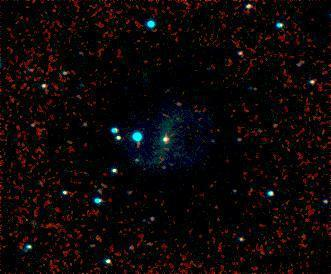star: (143, 125, 173, 155)
